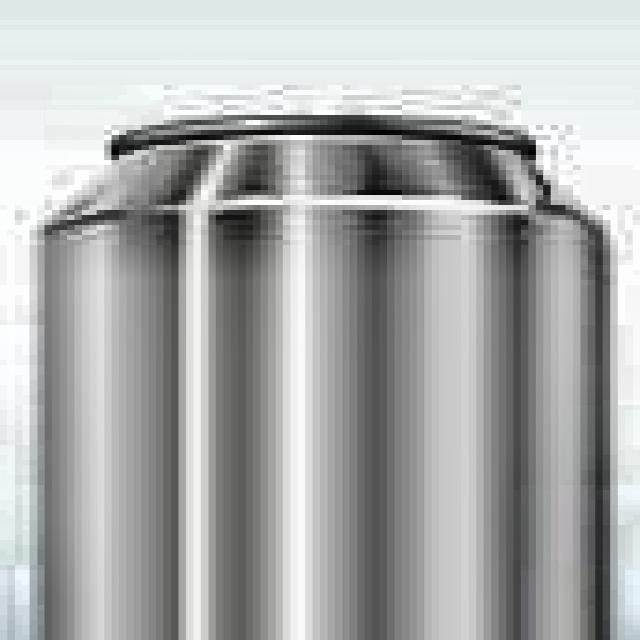metal: (7, 100, 640, 640)
